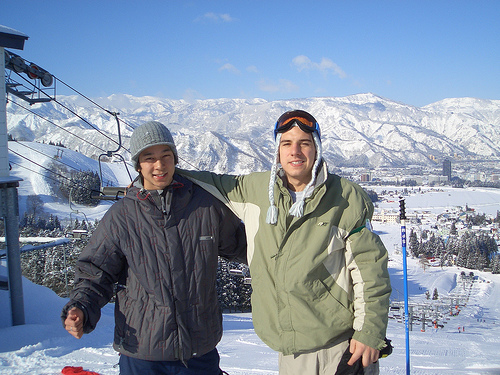without_mask: (117, 123, 202, 202), (261, 114, 340, 186)
